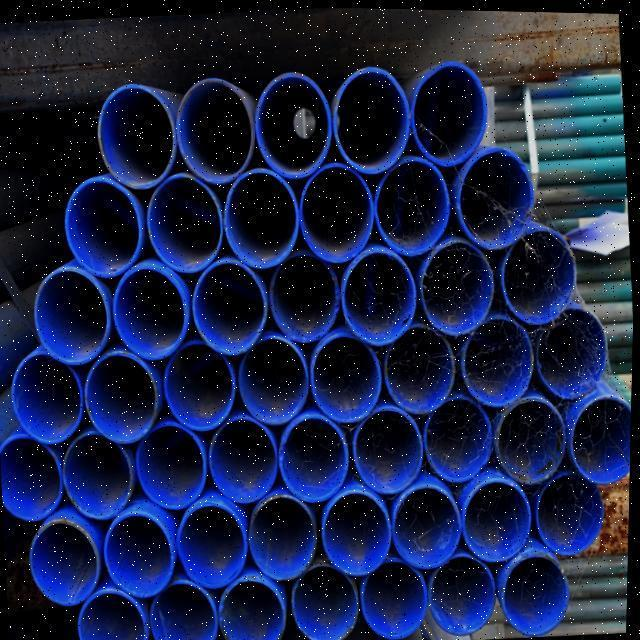pipe: (250, 63, 338, 180), (328, 58, 416, 173), (94, 76, 181, 190), (173, 70, 260, 184), (406, 54, 493, 165), (453, 140, 540, 248), (144, 164, 228, 274), (371, 147, 455, 257), (62, 170, 148, 277), (338, 240, 424, 346), (294, 157, 380, 262), (220, 162, 304, 268), (32, 260, 116, 366), (190, 251, 274, 355), (111, 253, 193, 359), (498, 218, 582, 321), (418, 232, 500, 332), (82, 344, 164, 443), (459, 306, 541, 404), (381, 314, 462, 412), (9, 343, 88, 443), (160, 332, 240, 430), (308, 324, 388, 422), (490, 389, 572, 484), (265, 245, 345, 342), (276, 403, 354, 502), (60, 424, 140, 520), (237, 327, 315, 425), (534, 300, 612, 397), (134, 414, 212, 510), (459, 469, 539, 562), (103, 504, 181, 598), (351, 398, 428, 493), (176, 496, 253, 590), (319, 480, 396, 574), (391, 475, 467, 570), (30, 512, 106, 606), (208, 410, 284, 504), (422, 388, 498, 481), (533, 464, 611, 554), (248, 486, 324, 578), (499, 544, 575, 636), (358, 550, 434, 638), (0, 428, 71, 521), (427, 546, 502, 634), (289, 554, 365, 640), (568, 387, 634, 483), (220, 567, 290, 640), (149, 573, 223, 640), (78, 583, 153, 640)
